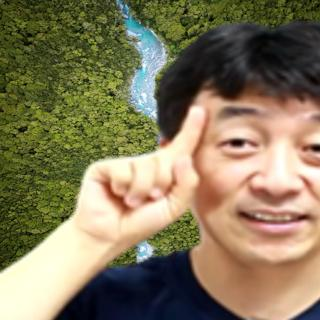IRRITATED: (69, 100, 214, 250)
